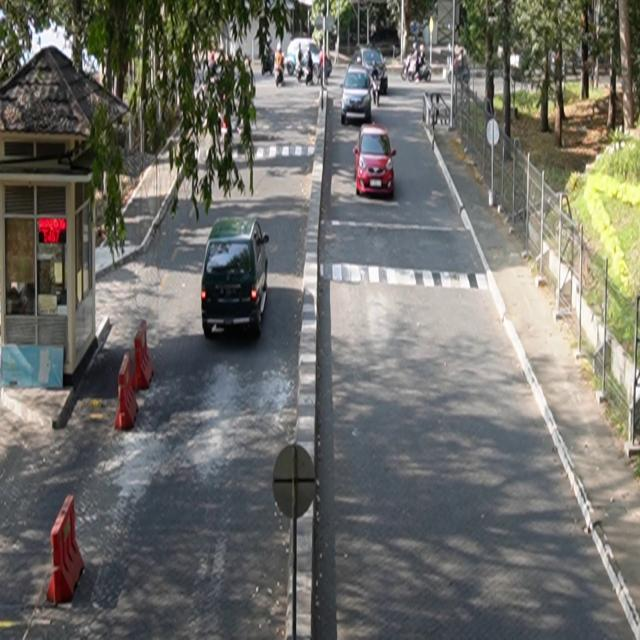car: (202, 217, 270, 340), (354, 123, 397, 199), (342, 68, 374, 125), (352, 47, 389, 95)
